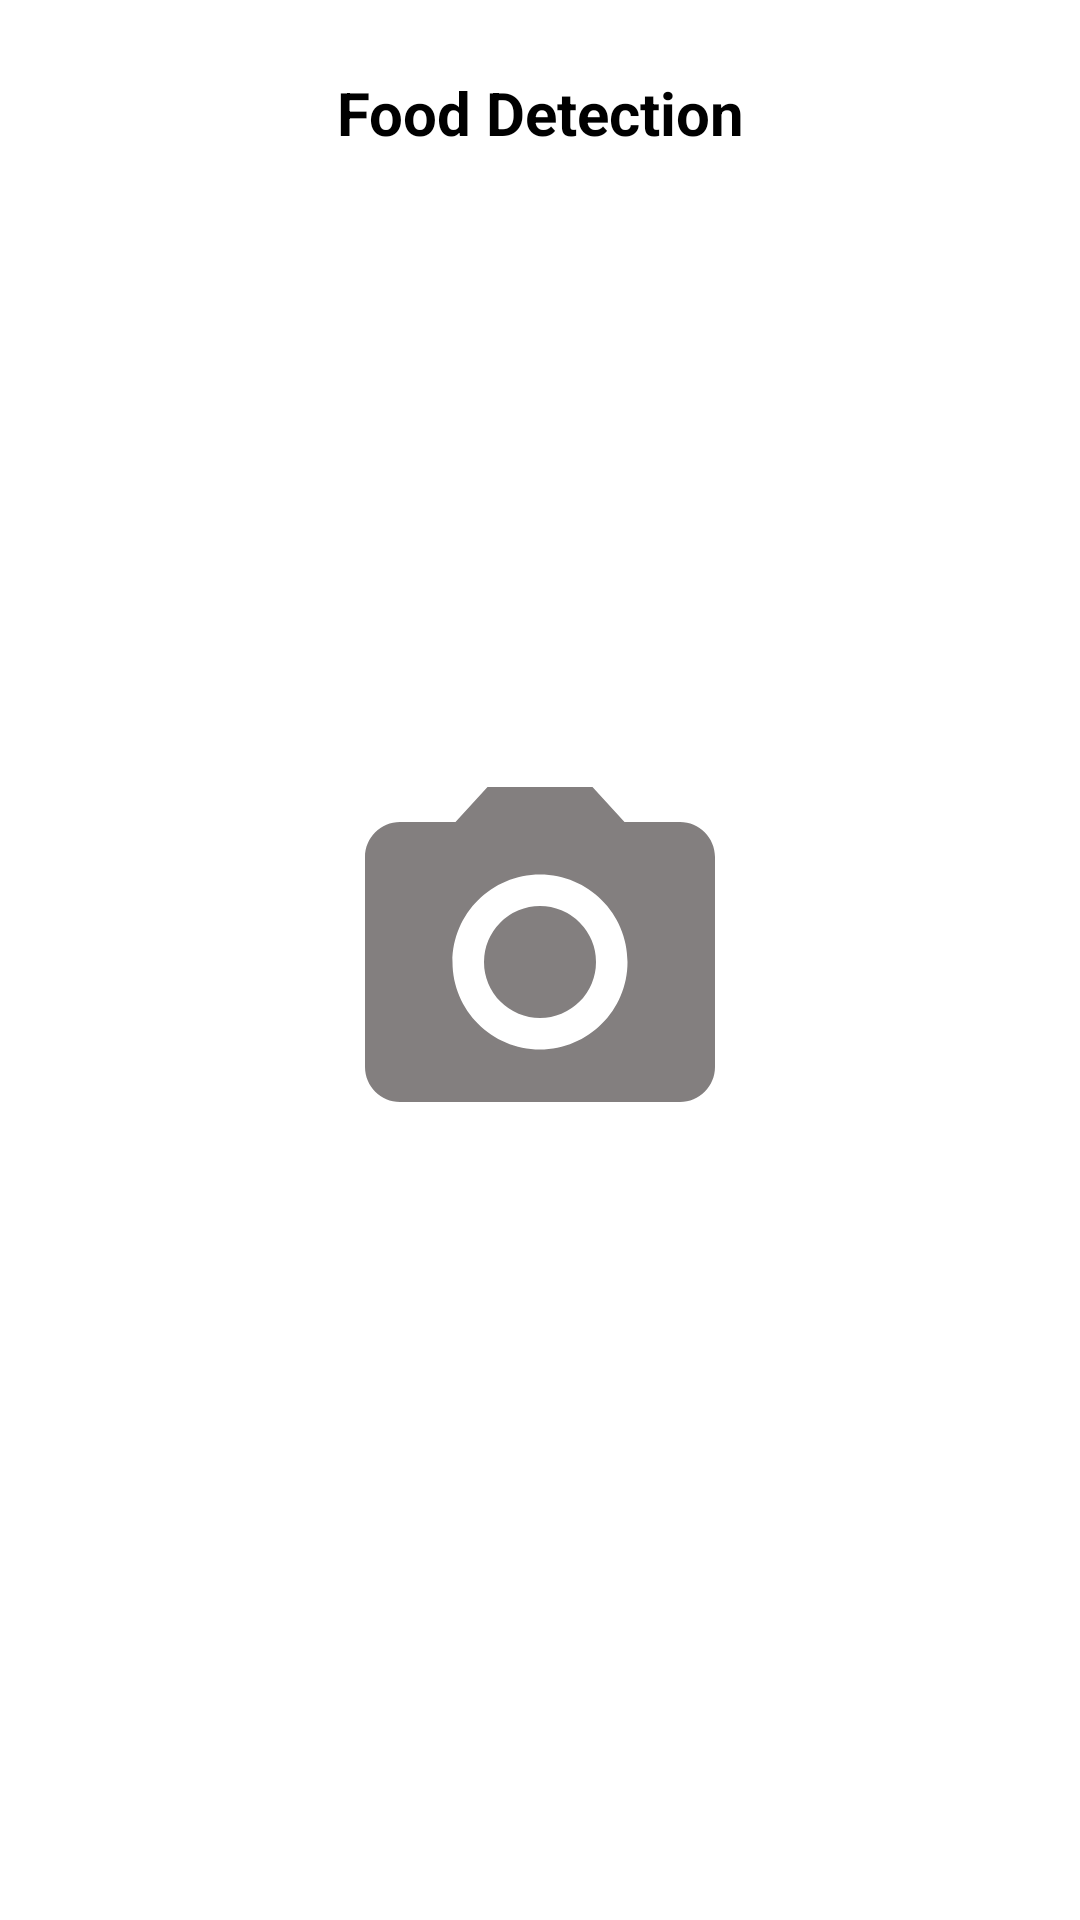

Screen size 1080 x 1920. Icon name, then its box in pixels as [x1,y1,x2,y2]:
camera: [365,787,715,1102]
